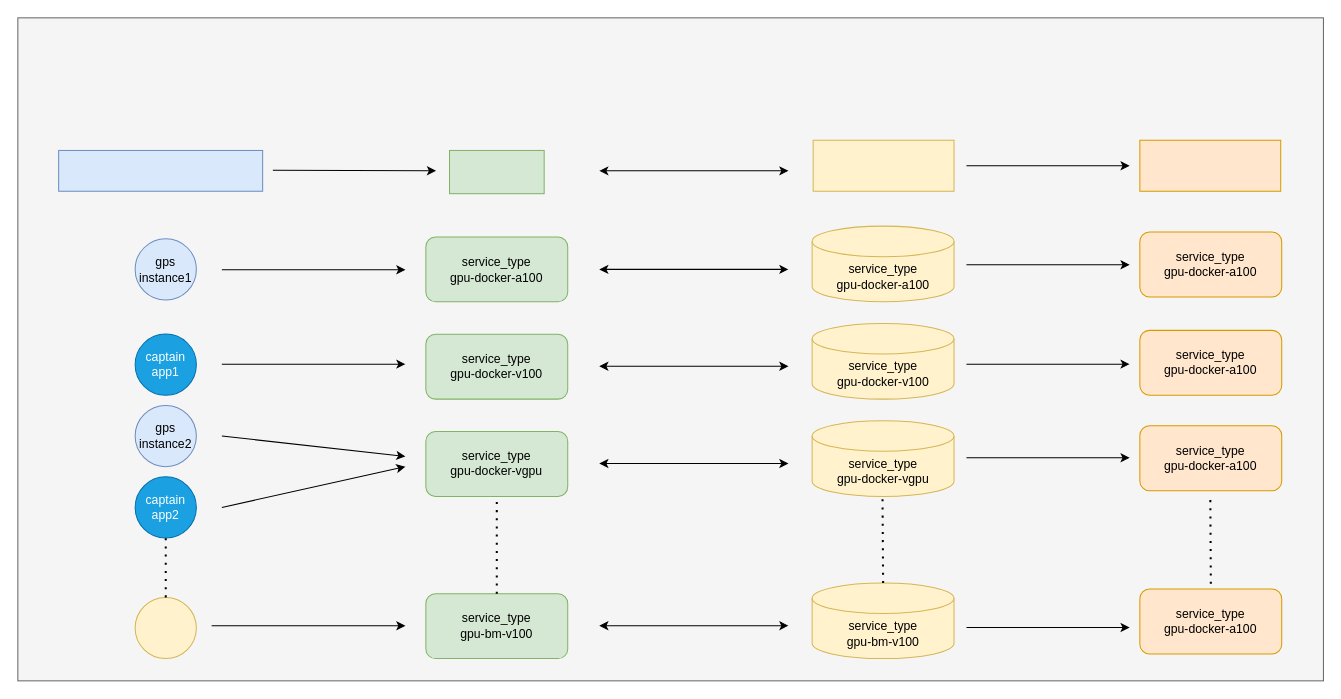
Image size: 1341x699. Some labels were removed from this diagram. Here are the shapes that lost their labels. From the top down, the box of each, then its label:
(58, 149, 263, 191): App Instance
(448, 149, 544, 194): Usage
(812, 139, 954, 191): Server Group
(1139, 139, 1281, 191): Unit Price
(134, 596, 196, 659): bm-v100
